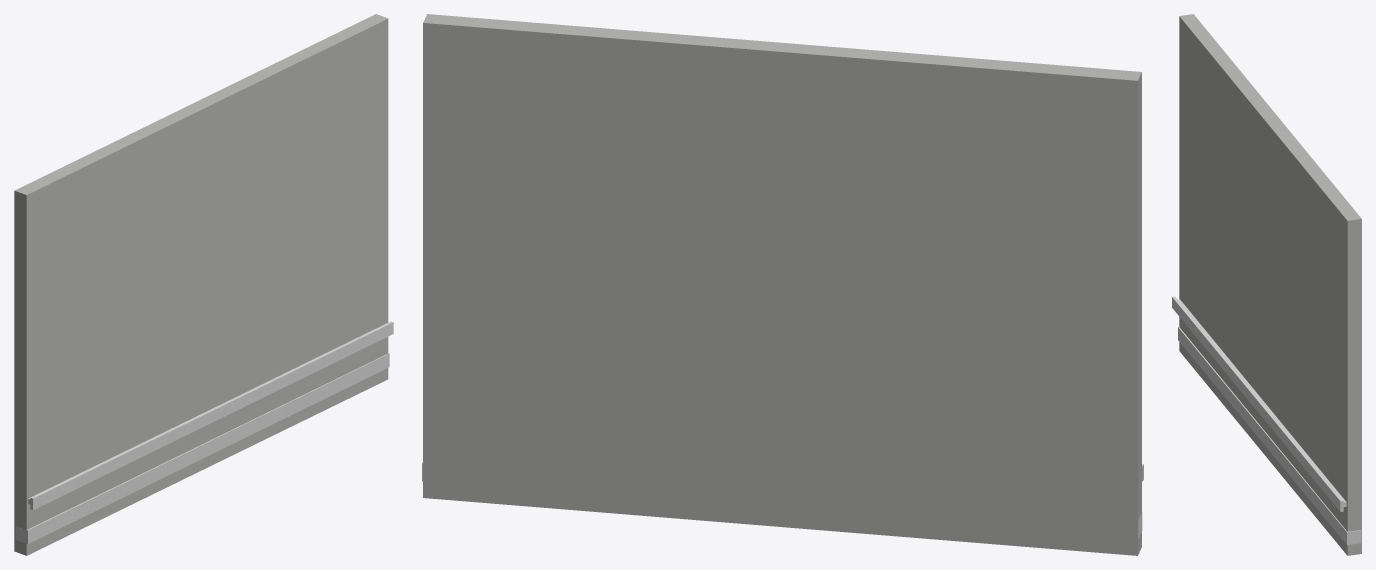
Rendered from Diagonal_wall1.obj.
3 renders of one model, left to right at view 1: azimuth 30°, elevation 25°; view 2: azimuth 150°, elevation 25°; view 3: azimuth 270°, elevation 25°, orthographic. The views are drawn at different scales.
Visible parts, largest first — view 1: Part4, Part1, Part2; view 2: Part4; view 3: Part4, Part1, Part2, Part3.
Part boxes in pixels (x1,y1,x2,y2): Part4: [14, 14, 388, 555]; Part1: [15, 353, 389, 544]; Part2: [30, 321, 393, 510]; Part4: [423, 14, 1141, 555]; Part4: [1179, 14, 1361, 555]; Part1: [1178, 327, 1361, 545]; Part2: [1172, 296, 1343, 511]; Part3: [1178, 299, 1346, 506].
Size of the model in its own units: 32.47 by 24.43 by 12.54.
Materials: 3 (2 with a texture image).
